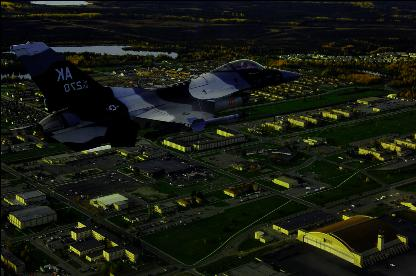F14: (3, 39, 309, 150)
